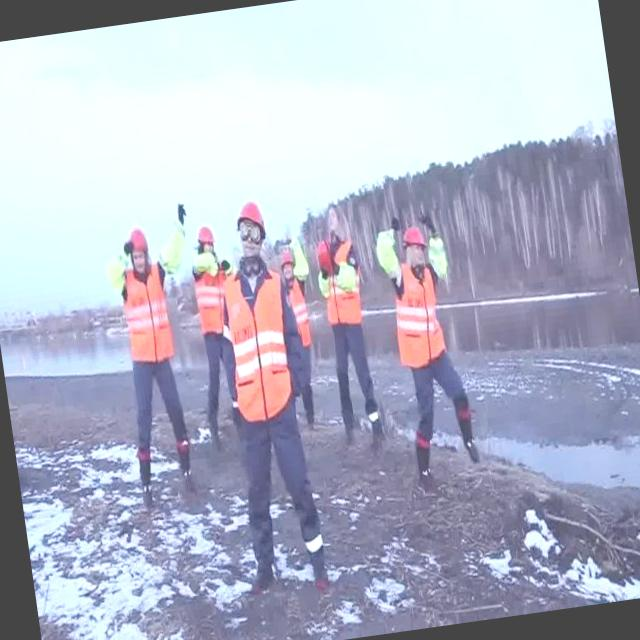vest: (220, 262, 300, 428), (387, 261, 449, 369), (120, 264, 178, 364), (320, 239, 364, 326), (194, 262, 226, 332), (372, 225, 406, 281), (156, 224, 190, 277), (286, 282, 310, 352), (288, 232, 312, 282), (100, 251, 130, 289), (424, 236, 446, 274), (334, 255, 358, 287), (190, 245, 218, 272), (318, 268, 332, 299)
